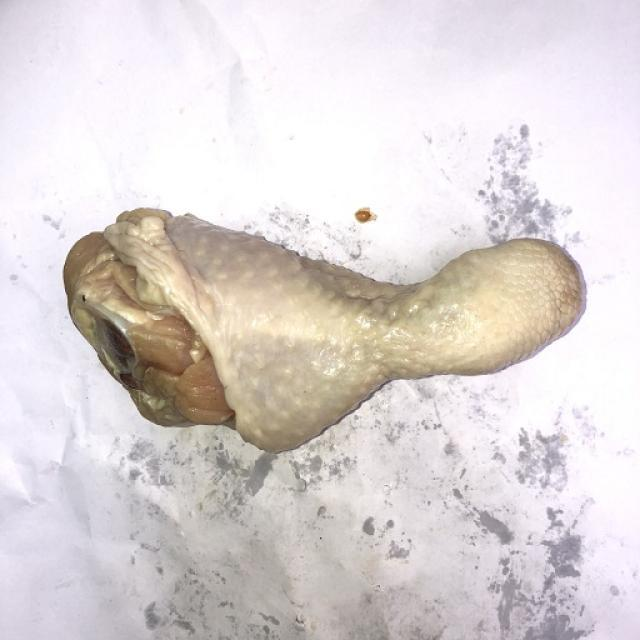chicken: (62, 205, 587, 454)
